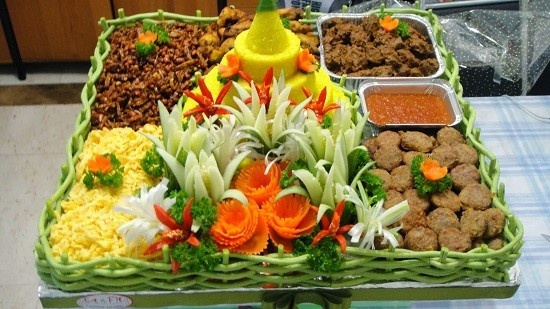nasi_tumpeng: (59, 1, 505, 253)
